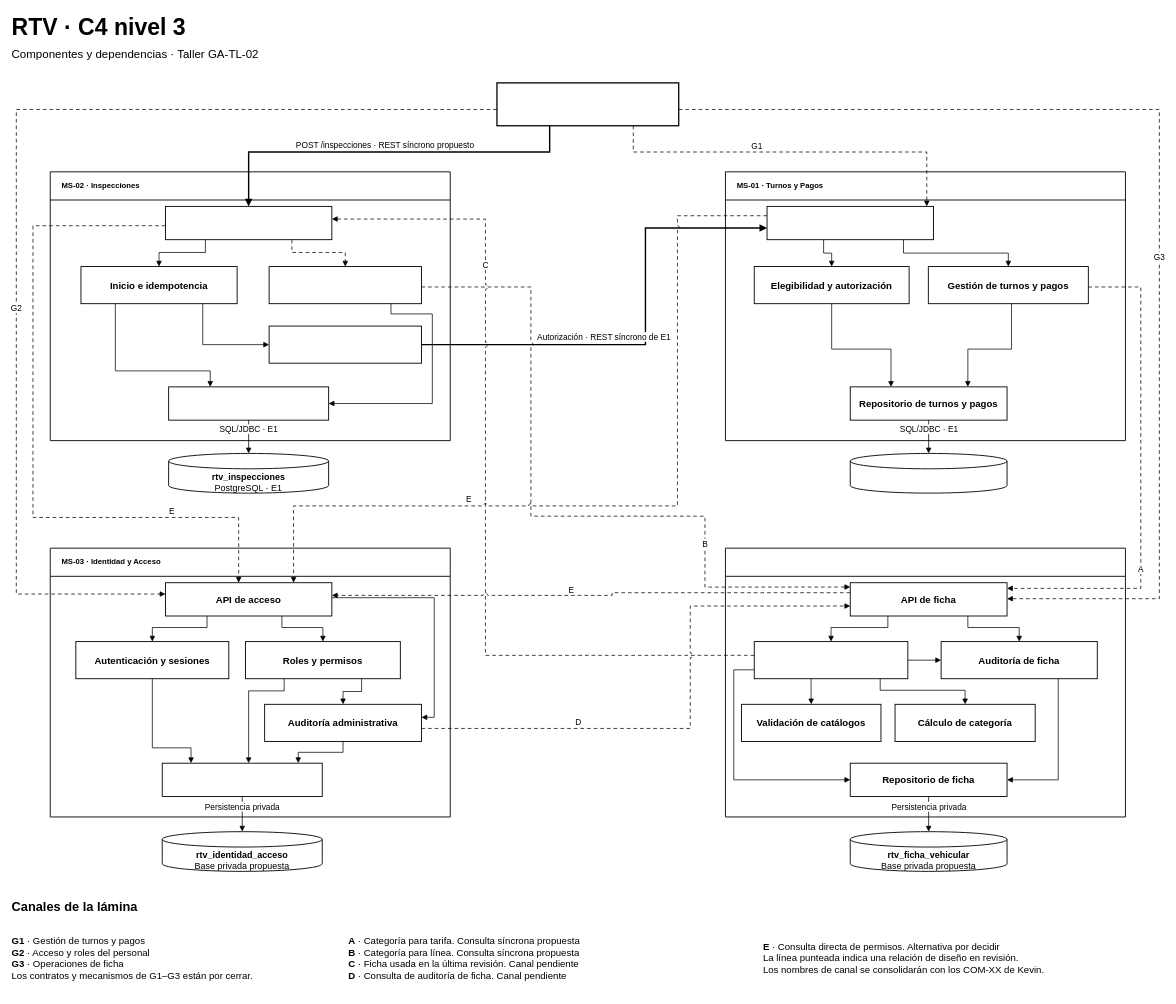
Image size: 1176x1004. Some labels were removed from this diagram. Each missing label, with the box of its shape:
API de inspecciones: (165, 206, 332, 240)
API de turnos y pagos: (766, 206, 934, 240)
API Gateway Entrada a las operaciones de RTV: (496, 82, 679, 126)
Asignación de línea: (268, 266, 422, 304)
Cliente de autorización: (268, 325, 422, 363)
Ficha e historial: (753, 641, 908, 679)
MS-04 · Ficha y Clasificación Vehicular: (725, 547, 1126, 817)
Repositorio de identidad: (161, 762, 322, 797)
Repositorio de inspecciones: (168, 386, 329, 420)
rtv_turnos_pagos PostgreSQL · E1: (849, 453, 1007, 493)
